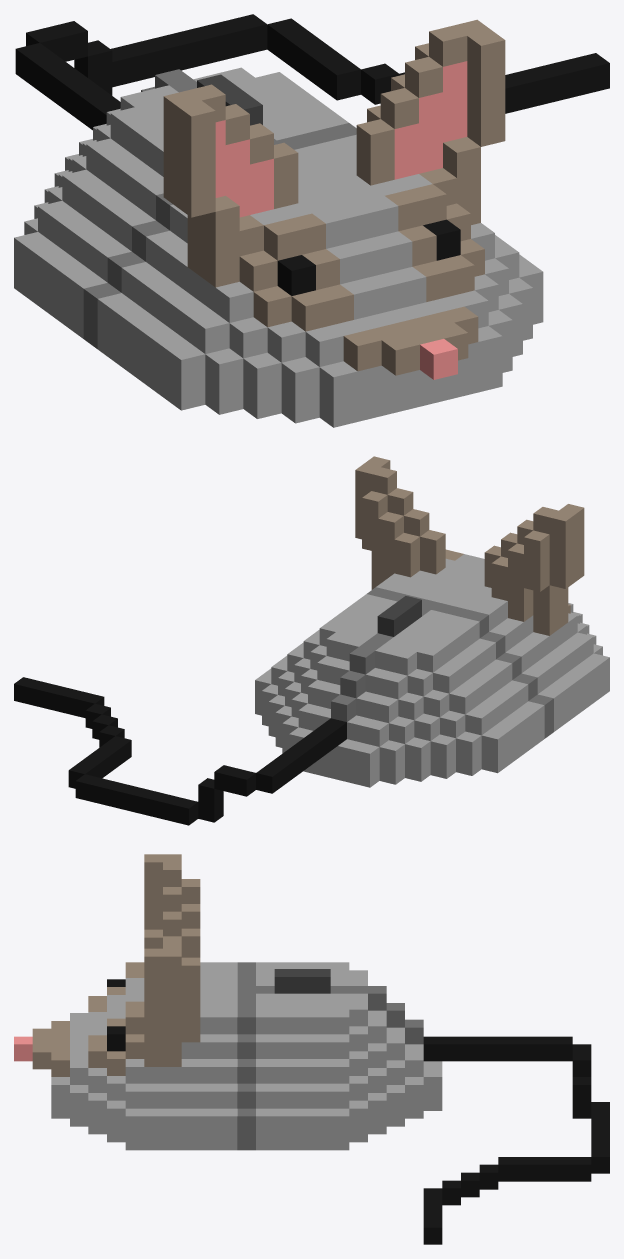
File: Mouse_Mao_notevolved.obj
3 views of the same model, one above another, from view 1: azimuth 30°, elevation 25°; view 2: azimuth 150°, elevation 25°; view 3: azimuth 270°, elevation 25° (orthographic). The views are drawn at different scales.
Bounding box in the file's own units: 2.7 × 1.1 × 3.2.
1 material, 1 textured.
